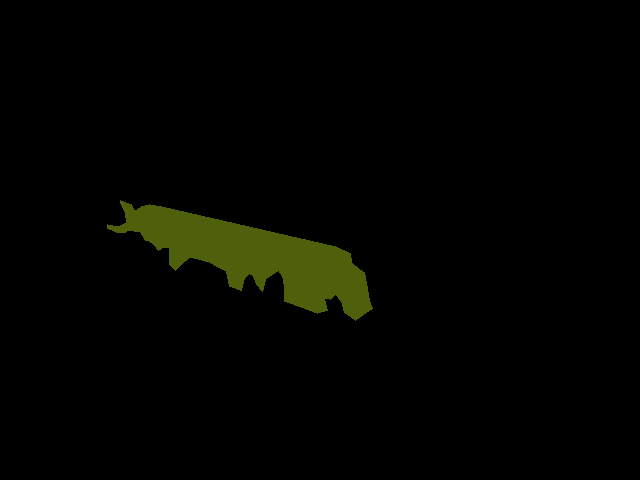Train: (107, 200, 373, 320)
